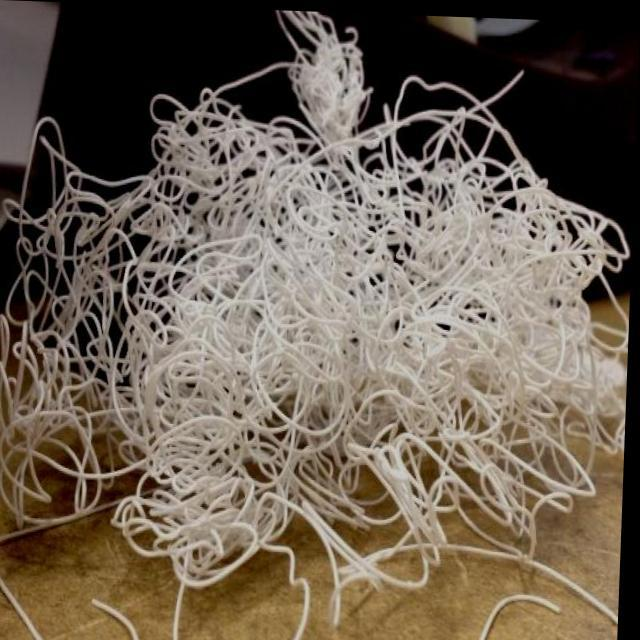spaghetti: (1, 76, 629, 553)
